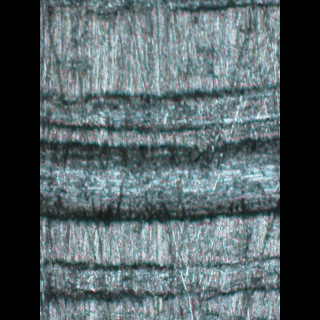d: (40, 85, 279, 226), (41, 252, 279, 314)
